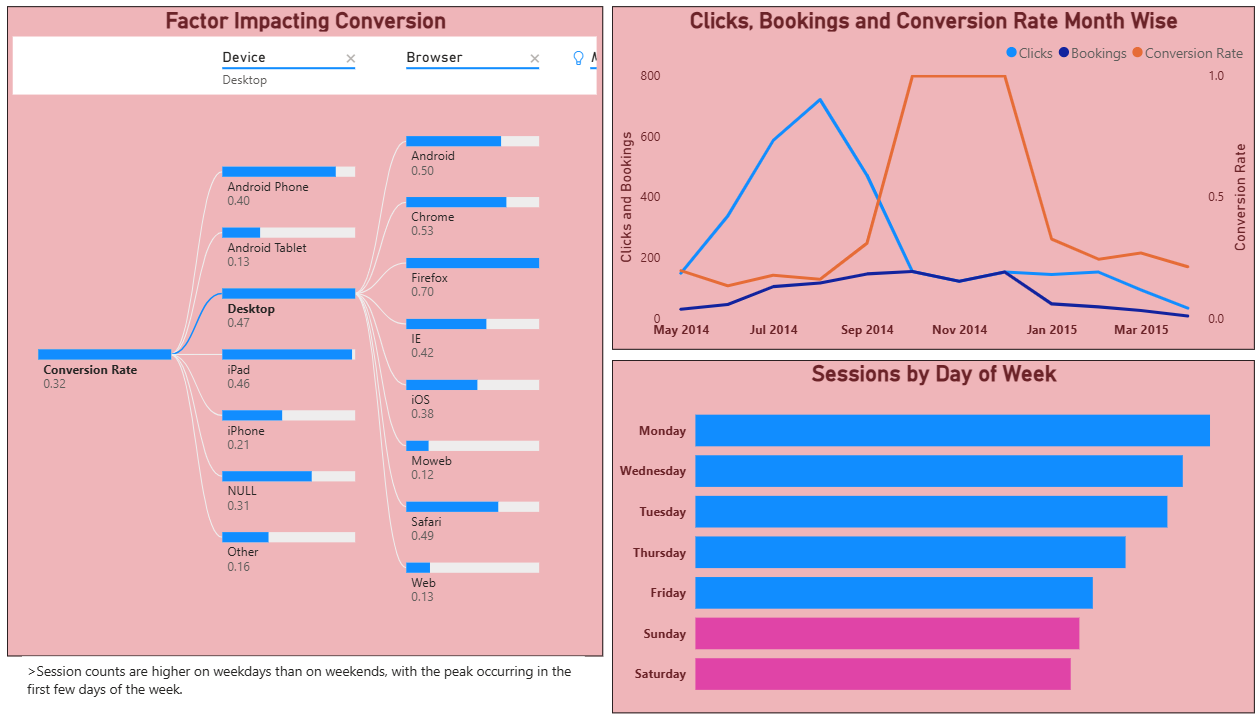

Layout of this report page (visuals, bound fields, positions):
{"tool":"powerbi","page":{"name":"Temporal & Booking Trends","canvas":[1280,720],"ordinal":2},"visuals":[{"type":"lineChart","title":"Clicks, Bookings and Conversion Rate Month Wise","fields":{"Category":["Dates.Date.Variation.Date Hierarchy.Year","Dates.Date.Variation.Date Hierarchy.Month"],"Y":["Search Data.Clicks","Search Data.Bookings"],"Y2":["Search Data.Conversion Rate"]},"box":[606.5,16.5,628.5,336.2],"z":0},{"type":"decompositionTreeVisual","title":"Factor Impacting Conversion","fields":{"Analyze":["Search Data.Conversion Rate"],"ExplainBy":["Search Data.Device","Search Data.Browser","Dates.Date.Variation.Date Hierarchy.Month","Dates.Date.Variation.Date Hierarchy.Year","Dates.Date.Variation.Date Hierarchy.Quarter"]},"box":[14.7,15.9,583.3,635.9],"z":1000},{"type":"barChart","title":"Sessions by Day of Week","fields":{"Category":["Dates.Day Name"],"Y":["CountNonNull(Search Data.id session)"]},"box":[606.5,362.3,628.5,345.8],"z":2000},{"type":"textbox","box":[29.3,651.8,550.3,47.7],"z":8000}]}

Visuals, with their boxes in screenshot pixels (x1, y1, x2, y2), scaled from the page's 1280x720 canvas onto the 1256x715 screenshot:
"Clicks, Bookings and Conversion Rate Month Wise" lineChart: x1=595 y1=16 x2=1212 y2=350
"Factor Impacting Conversion" decompositionTreeVisual: x1=14 y1=16 x2=587 y2=647
"Sessions by Day of Week" barChart: x1=595 y1=360 x2=1212 y2=703
textbox: x1=29 y1=647 x2=569 y2=695
